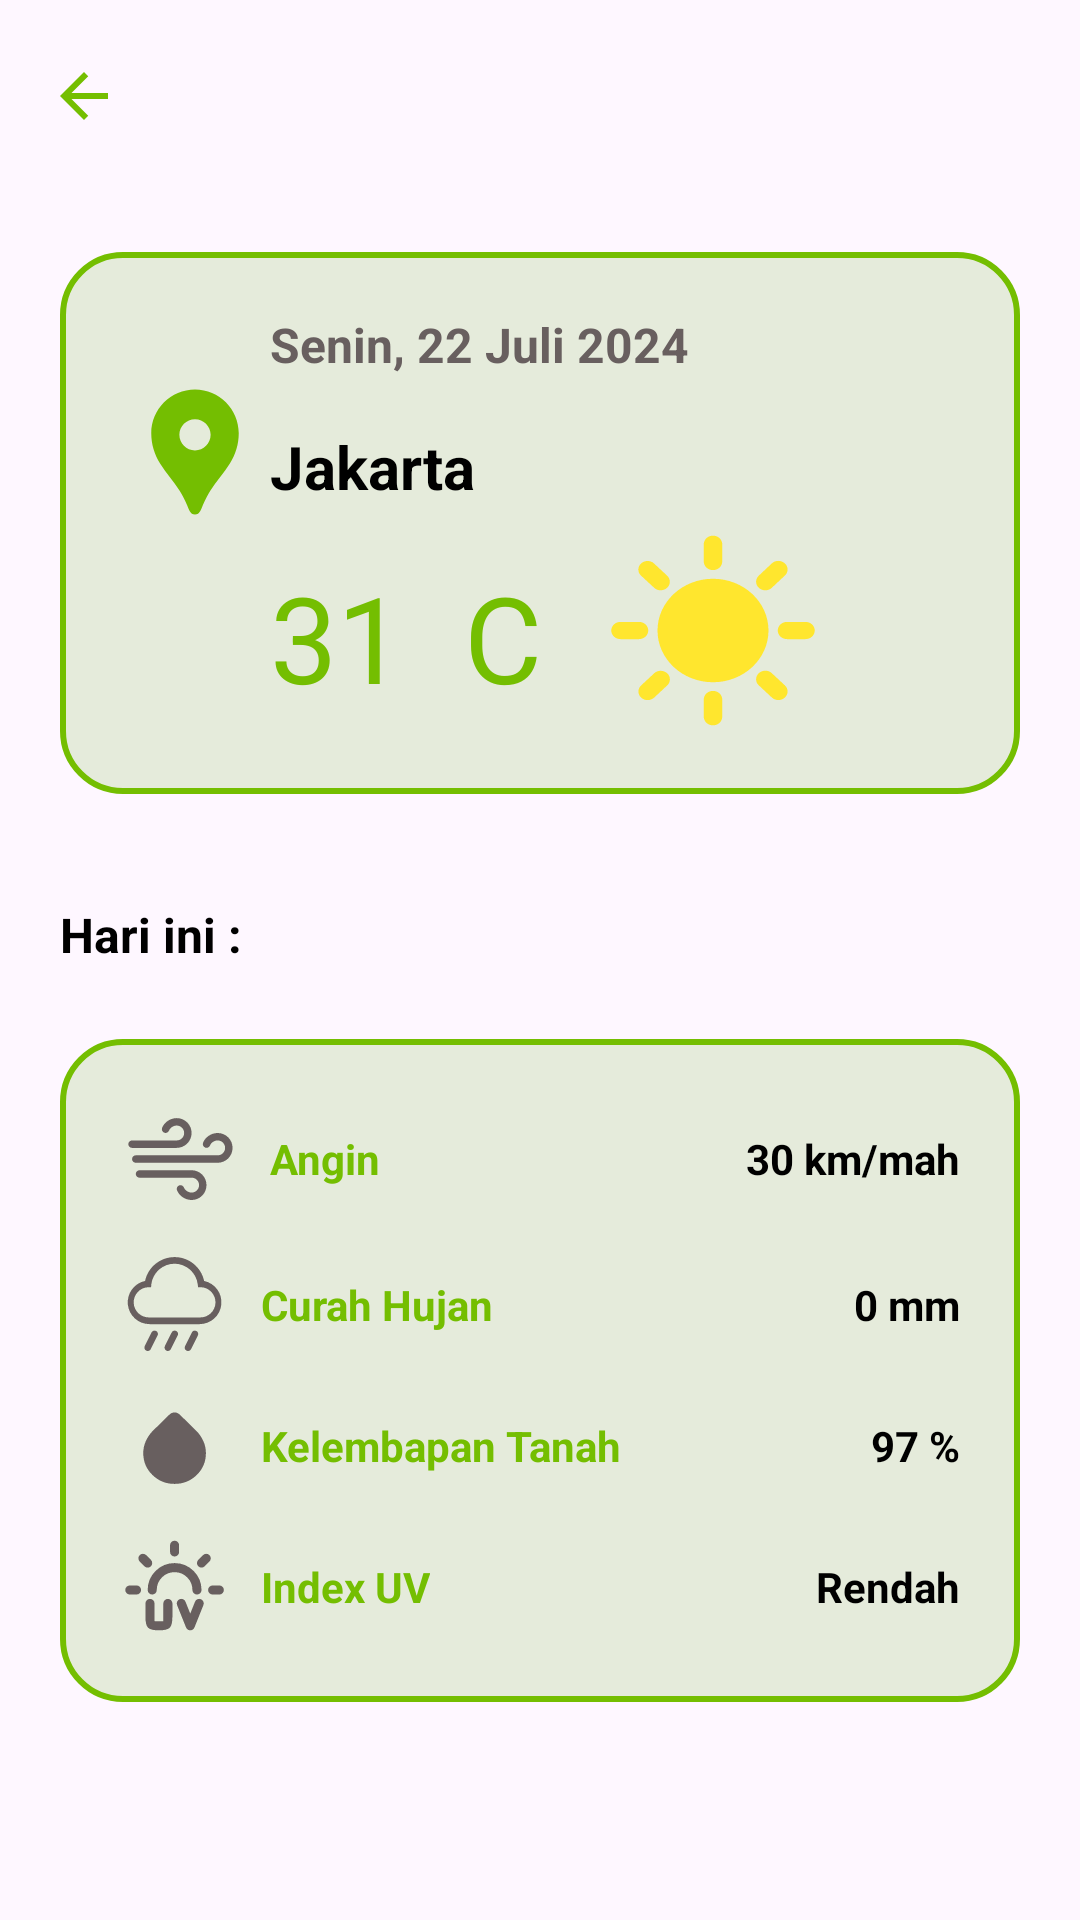

Where to tap for icons on this 1080 × 1920 app screen, as (x,y):
location: (195,452)
sun: (713,630)
wind: (180,1159)
